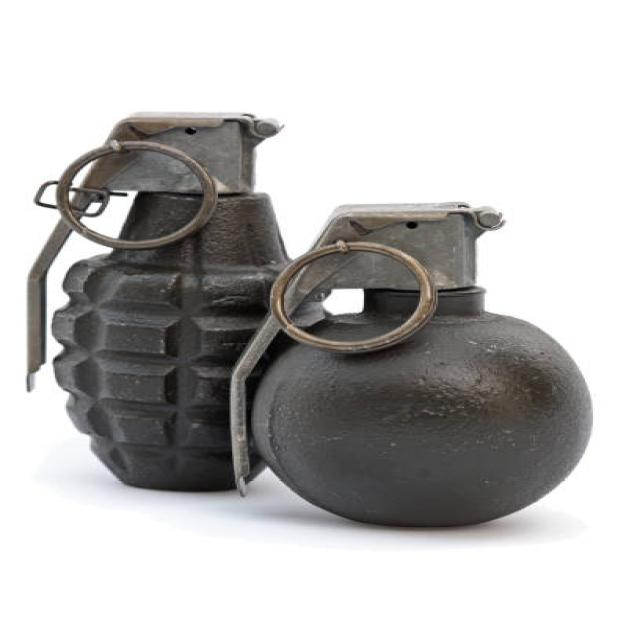grenade: (225, 194, 596, 538), (13, 109, 321, 501)
